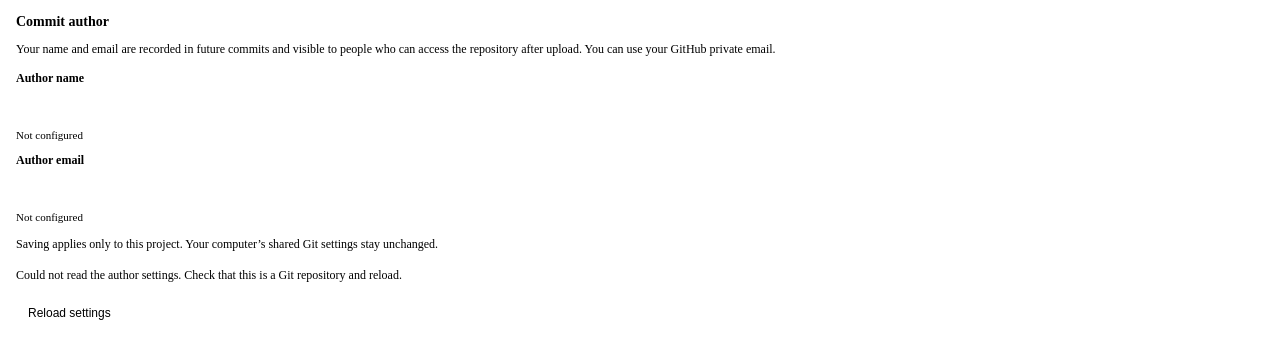
Test case: GitIdentitySettings › offers a reload after initial inspection fails
This screenshot has width=1286, height=347.
Check: the message is shown, box left=16, top=268, right=402, bottom=282
Click the button "Reload settings". click: (69, 313)
box: left=16, top=296, right=123, bottom=330
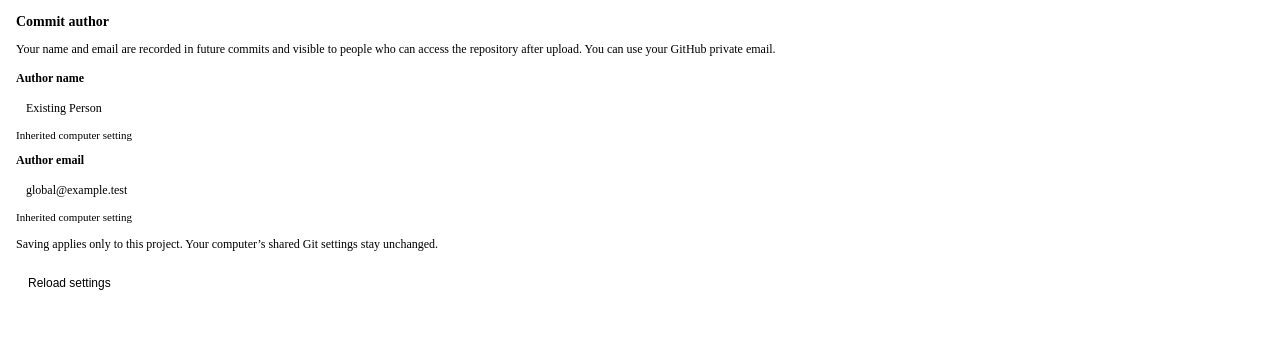
Check: the field showing "Existing Person" is shown, box left=16, top=92, right=1272, bottom=125
